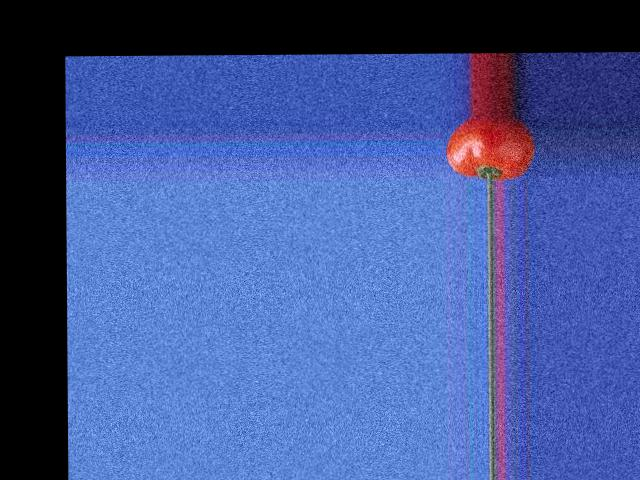tomato: (447, 115, 535, 181)
